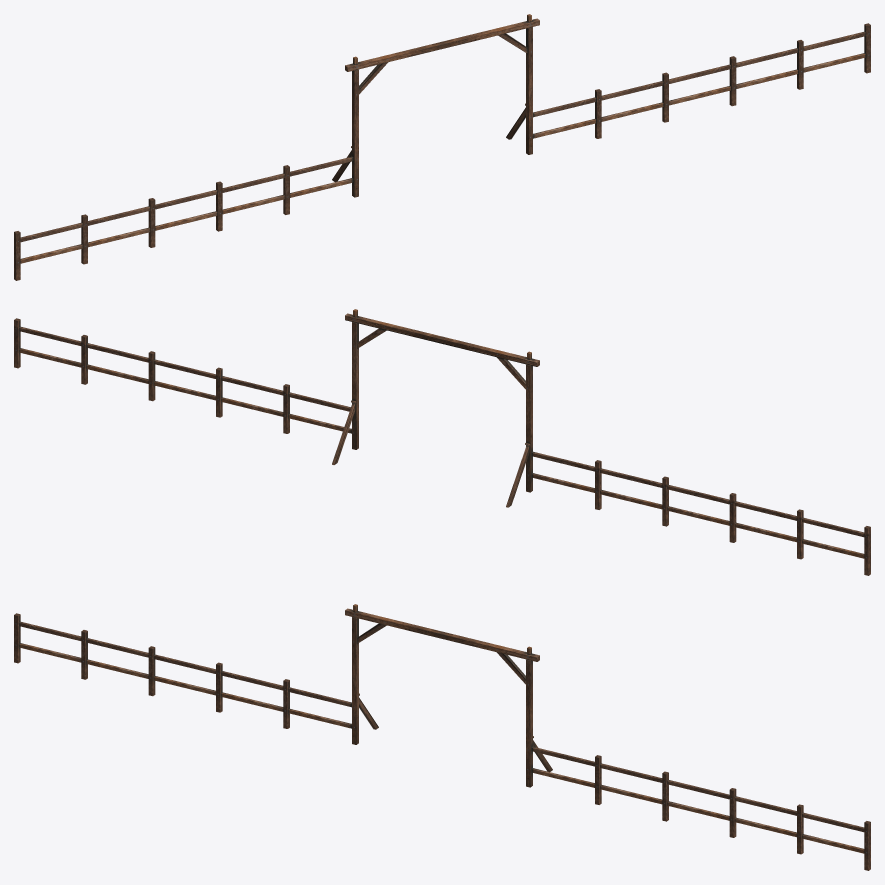
Rendered from farm_entrance_14_mb.glb.
3 views of the same model, one above another, from view 1: azimuth 30°, elevation 25°; view 2: azimuth 150°, elevation 25°; view 3: azimuth 330°, elevation 25° (orthographic).
Visible parts, largest first — view 1: Symmetry; view 2: Symmetry; view 3: Symmetry.
Part boxes in pixels (x1,y1,x2,y2): Symmetry: (14,14,870,280); Symmetry: (14,309,870,575); Symmetry: (14,604,870,870).
Size of the model in its own units: 35.17 by 5.49 by 1.7.
Materials: 1 (1 with a texture image).
